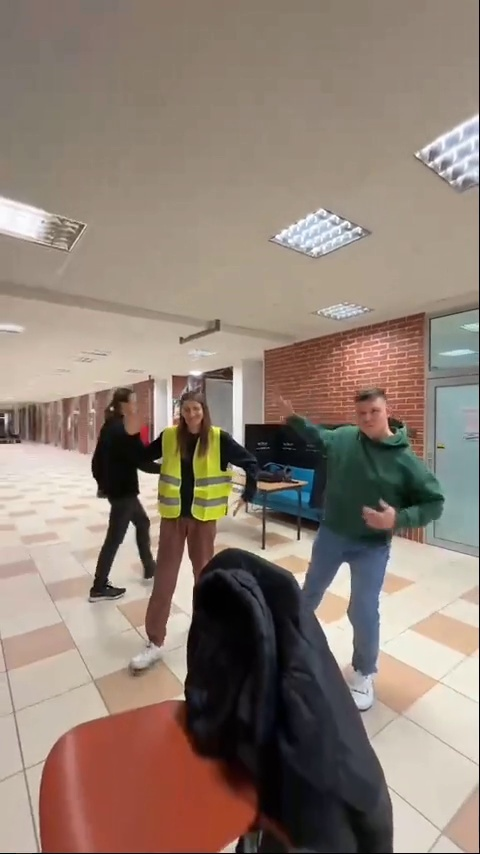no vest: (288, 387, 447, 706), (78, 382, 158, 596)
vest: (153, 396, 253, 661)
